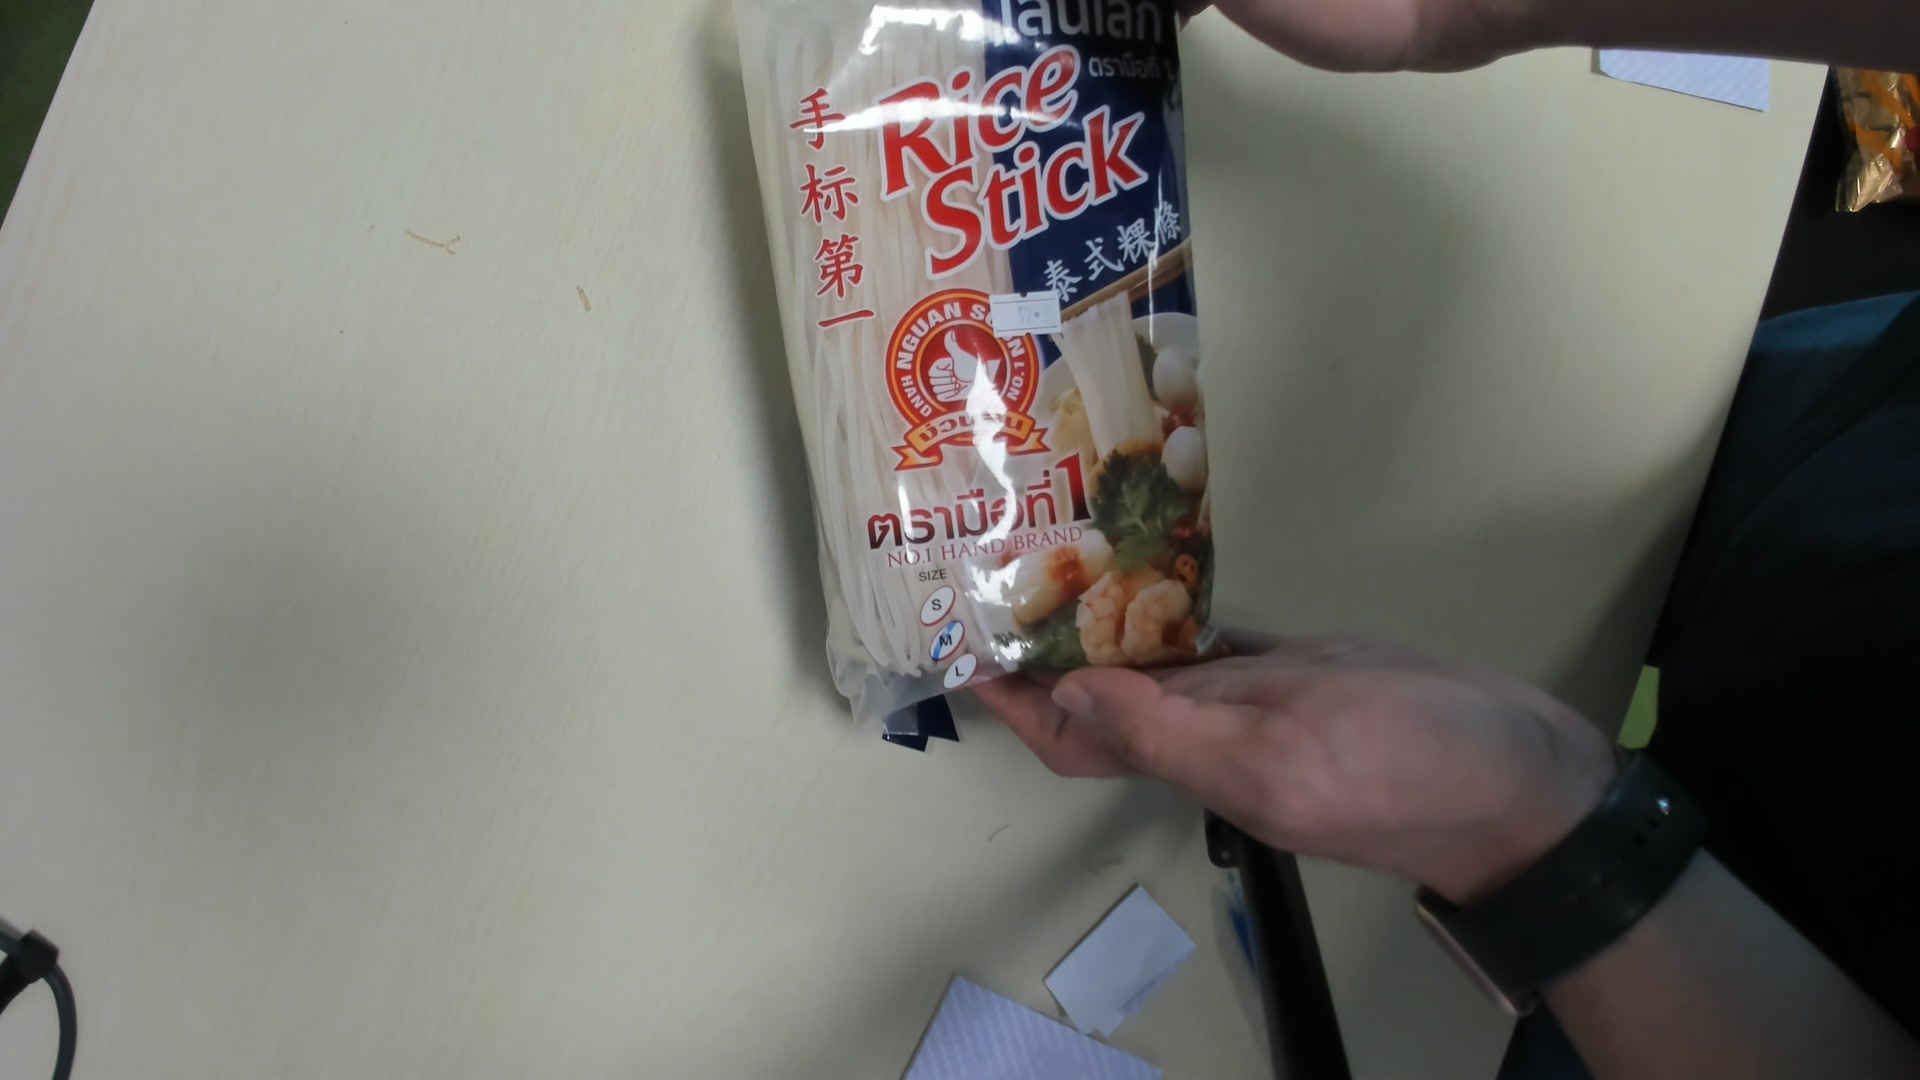OtherNoodles_400-499g_Halal_NonHealthy: (744, 8, 1217, 727)
